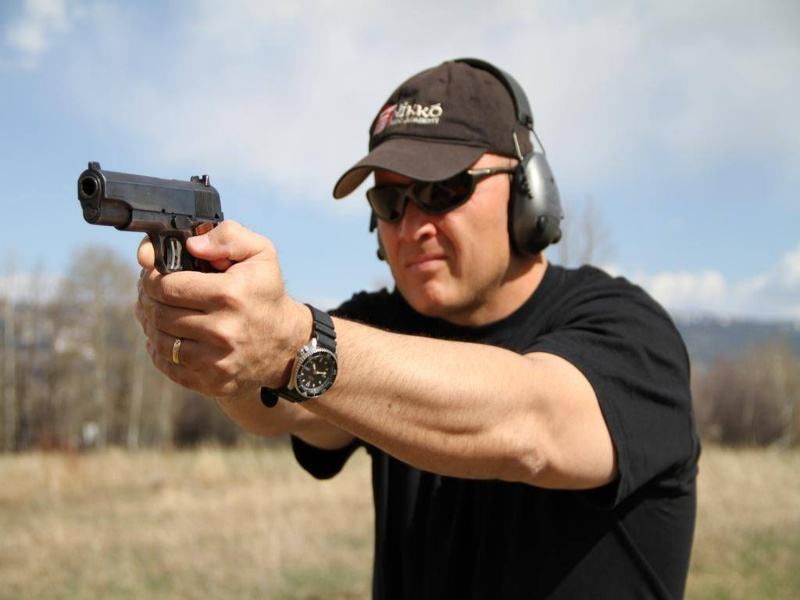person: (135, 58, 702, 600)
weapon: (78, 162, 224, 273)
